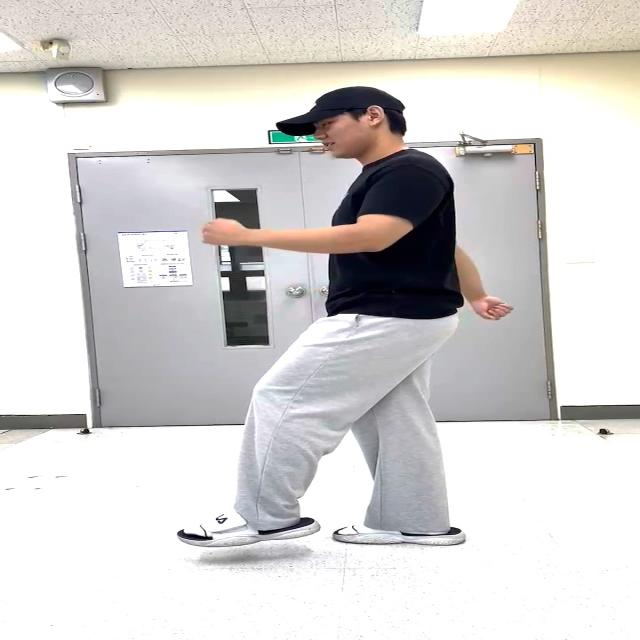leg: (156, 312, 383, 557)
